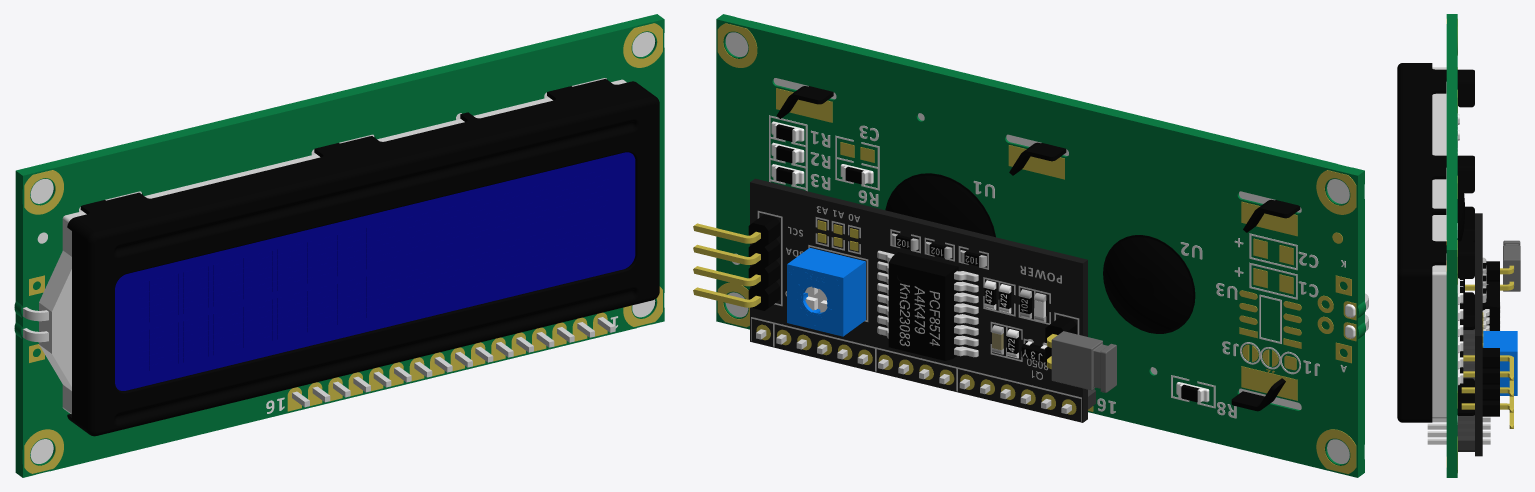
Rendered from LCD_Displey.fbx.
The picture shows the model from 3 angles, left to right: view 1: azimuth 30°, elevation 25°; view 2: azimuth 150°, elevation 25°; view 3: azimuth 270°, elevation 25°; orthographic projection. The views are drawn at different scales.
Parts seen in each view (by area): view 1: Frm, PCB Geometry, SOLID, chr, G, 1602 Serial LCD Module Display Geometry, SOLID.002; view 2: PCB Geometry, LCD I2C Board Geometry, G, SOLID.002, SOLID.003, IC Geometry, Pot Geometry, SOLID.004, txt2, pin6, Part2 Geometry, Frm (+3 smaller); view 3: Frm, PCB Geometry, 1602 Serial LCD Module Display Geometry, LCD I2C Board Geometry, 4P Geometry, Pot Geometry, PIN Geometry, pin3, Part2 Geometry, IC Geometry, 2P Geometry, SOLID.003 (+7 smaller).
Part boxes in pixels (x1=…): Frm: x1=67, y1=78, x2=659, y2=436; PCB Geometry: x1=14, y1=14, x2=664, y2=477; SOLID: x1=115, y1=152, x2=635, y2=390; chr: x1=139, y1=168, x2=608, y2=373; G: x1=24, y1=23, x2=662, y2=473; 1602 Serial LCD Module Display Geometry: x1=22, y1=79, x2=626, y2=413; SOLID.002: x1=30, y1=32, x2=655, y2=463; PCB Geometry: x1=716, y1=14, x2=1365, y2=477; LCD I2C Board Geometry: x1=750, y1=178, x2=1087, y2=422; G: x1=717, y1=23, x2=1356, y2=473; SOLID.002: x1=725, y1=32, x2=1355, y2=463; SOLID.003: x1=1103, y1=235, x2=1195, y2=333; IC Geometry: x1=888, y1=252, x2=958, y2=360; Pot Geometry: x1=787, y1=248, x2=865, y2=336; SOLID.004: x1=885, y1=173, x2=995, y2=237; txt2: x1=751, y1=206, x2=1081, y2=421; pin6: x1=877, y1=250, x2=978, y2=357; Part2 Geometry: x1=1051, y1=331, x2=1116, y2=392; Frm: x1=776, y1=86, x2=1300, y2=411; Frm: x1=1397, y1=63, x2=1474, y2=422; PCB Geometry: x1=1446, y1=14, x2=1457, y2=477; 1602 Serial LCD Module Display Geometry: x1=1432, y1=67, x2=1446, y2=418; LCD I2C Board Geometry: x1=1475, y1=213, x2=1482, y2=456; 4P Geometry: x1=1482, y1=348, x2=1499, y2=416; Pot Geometry: x1=1483, y1=331, x2=1517, y2=395; PIN Geometry: x1=1457, y1=329, x2=1474, y2=451; pin3: x1=1461, y1=355, x2=1513, y2=428; Part2 Geometry: x1=1503, y1=240, x2=1520, y2=291; IC Geometry: x1=1482, y1=284, x2=1499, y2=330; 2P Geometry: x1=1486, y1=261, x2=1499, y2=286; SOLID.003: x1=1457, y1=192, x2=1464, y2=241.
Size of the model in its own units: 69.85 by 31.36 by 15.36.
